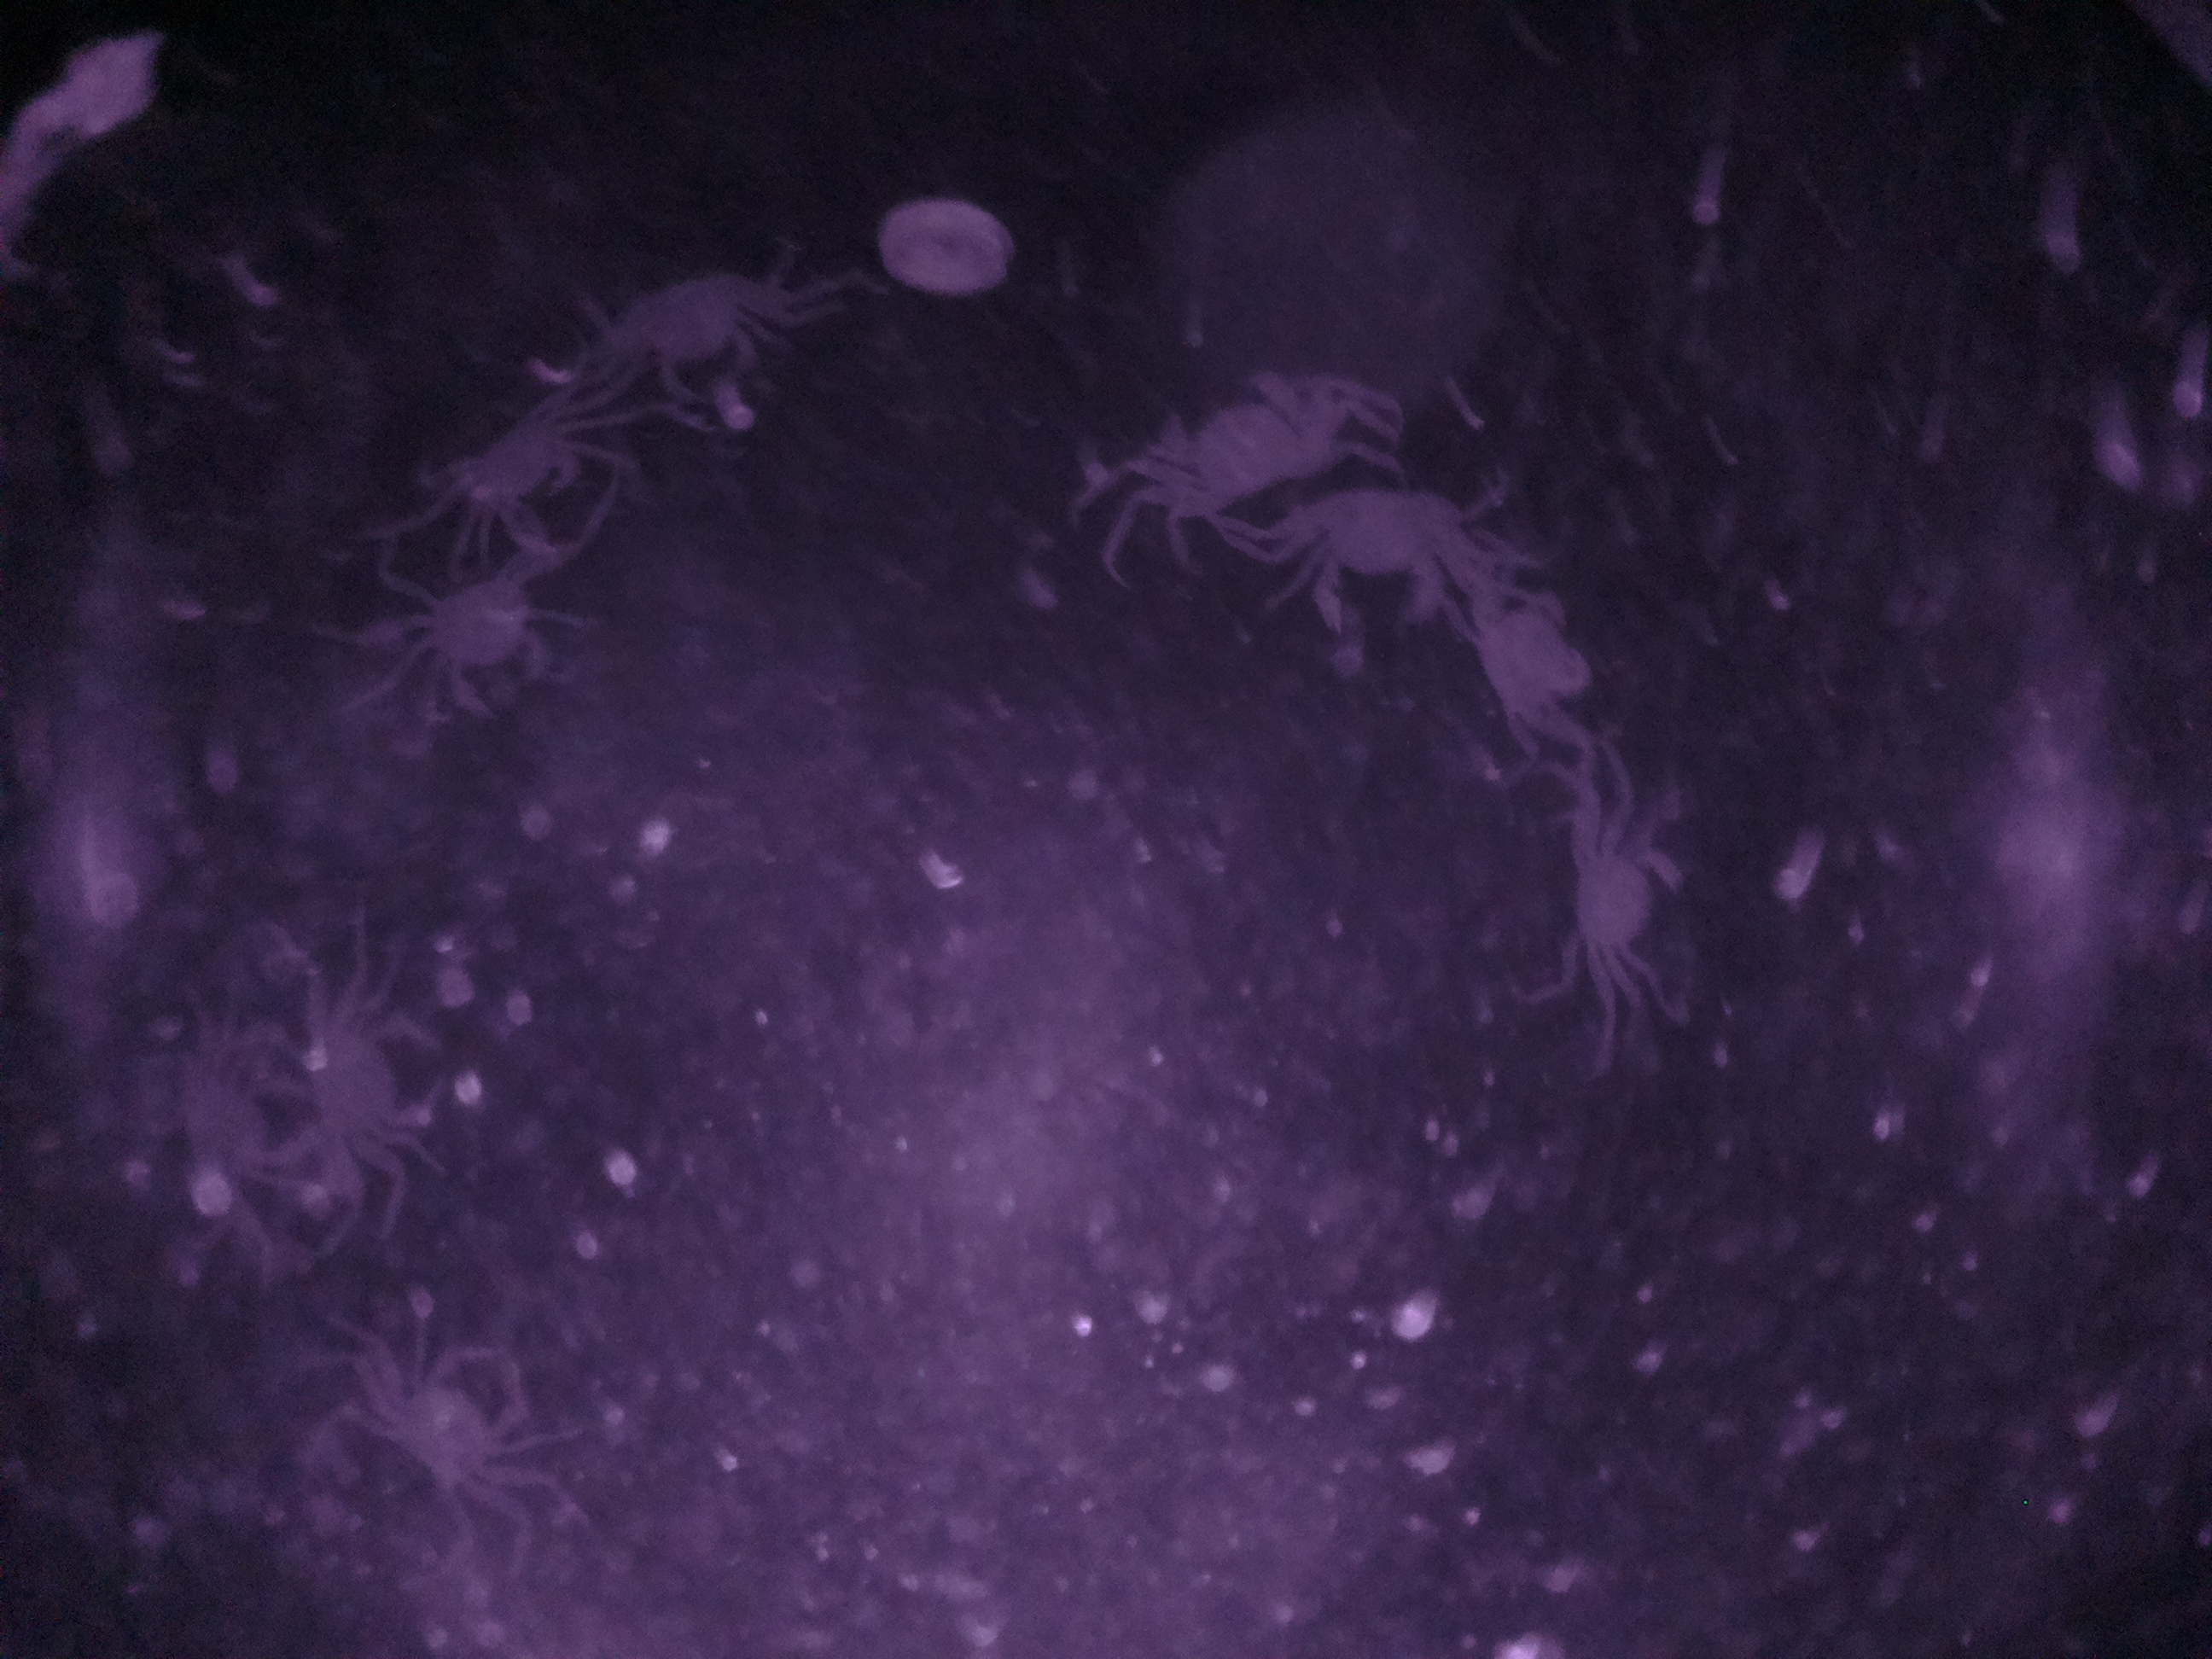Crab: (1076, 361, 1395, 551), (374, 542, 596, 737), (592, 253, 812, 410), (1545, 786, 1693, 1012)
